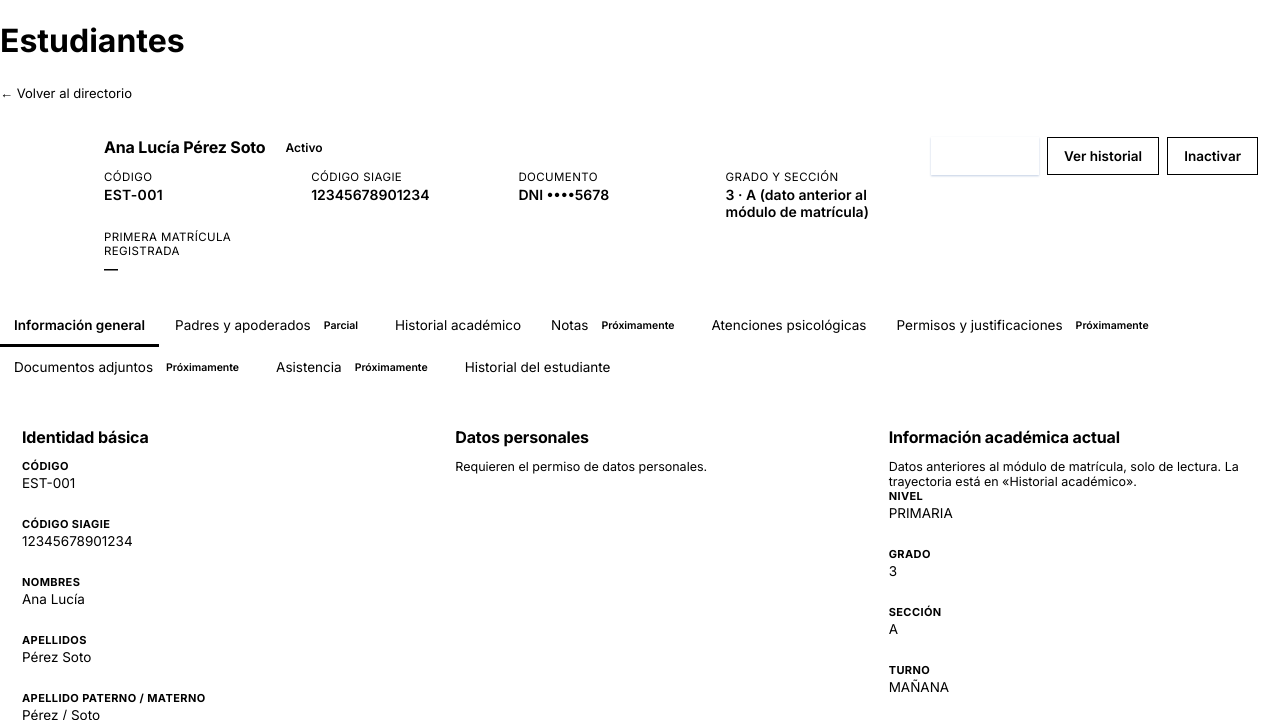
Scenario: Editar estudiante › envía solo los cambios con expected_version y refresca la versión
Check: the heading "Identidad básica" is shown, box top-left (22, 427), bottom-right (149, 447)
Click the button "Editar ficha": (985, 156) top-left (931, 137), bottom-right (1039, 175)
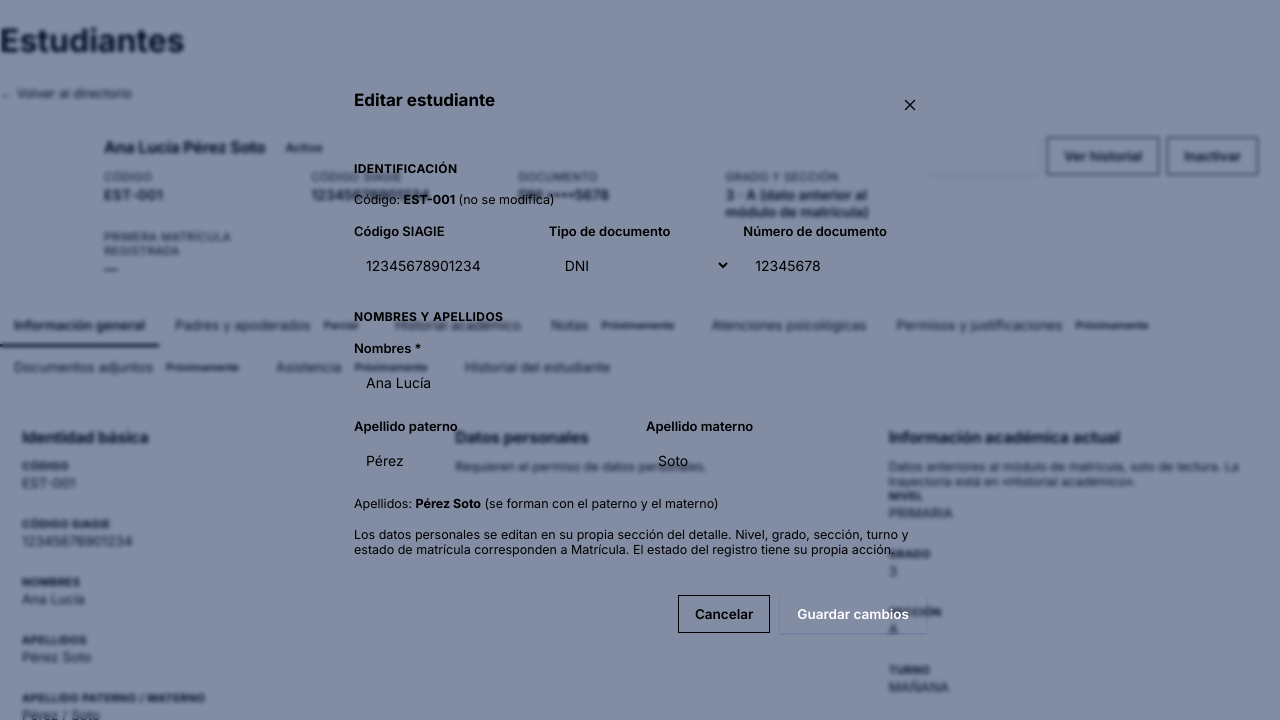
Replace the text in the field labelled "Nombres *" with "Ana  María ": (640, 382) top-left (354, 362), bottom-right (926, 402)
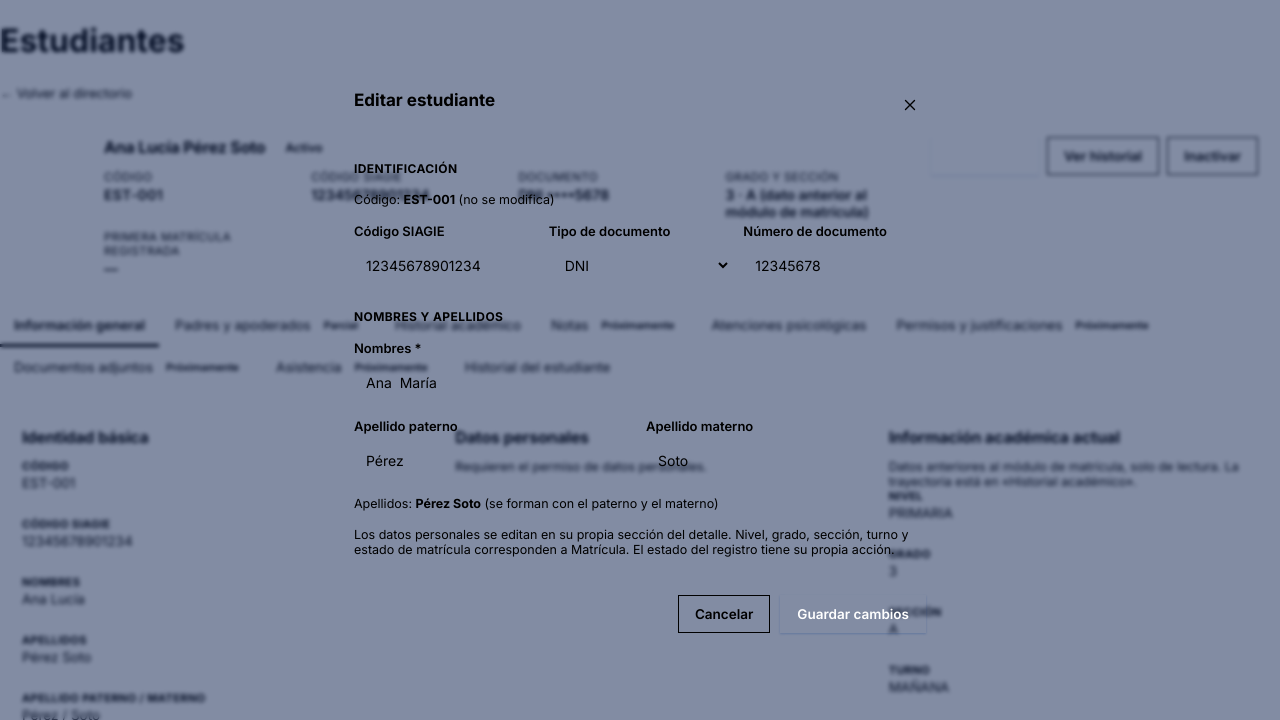
Click the button "Guardar cambios": (853, 614) top-left (780, 595), bottom-right (926, 633)
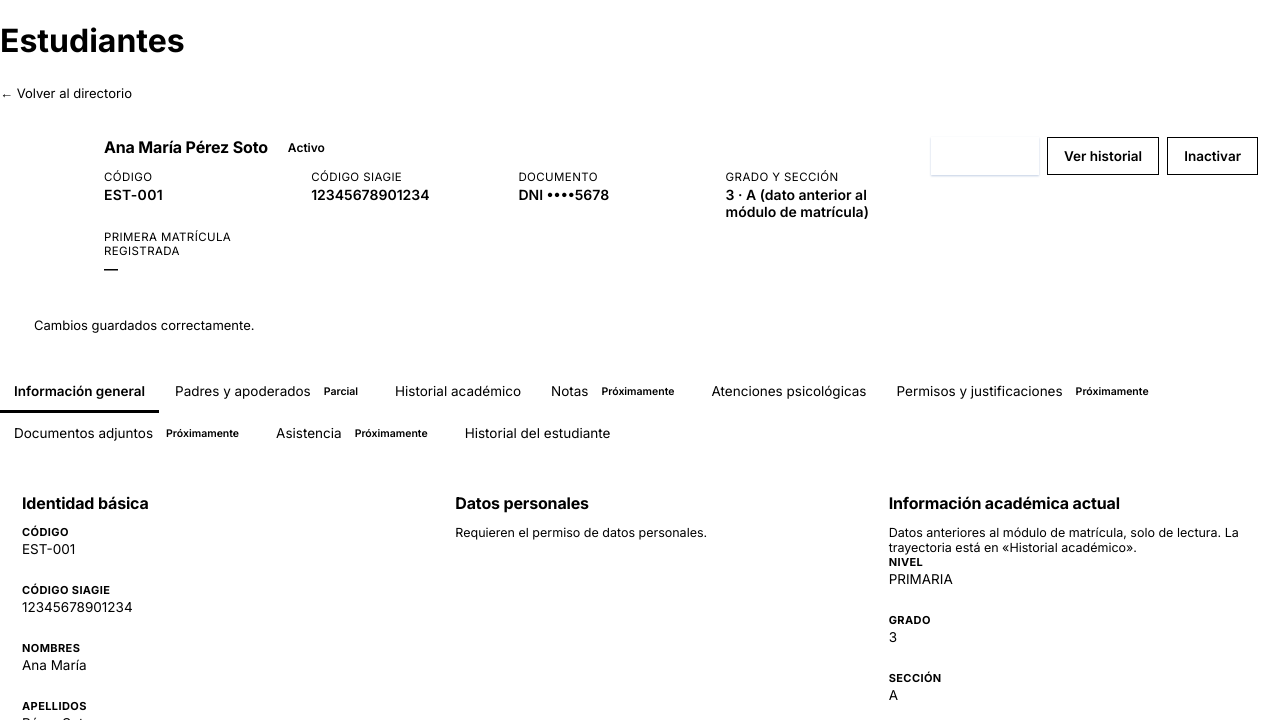
Check: the text "Cambios guardados correctamente." is shown, box top-left (34, 317), bottom-right (254, 333)
Check: the text "Ana María" is shown, box top-left (22, 657), bottom-right (86, 673)
Check: the heading "Ana María Pérez Soto" is shown, box top-left (104, 137), bottom-right (268, 157)
